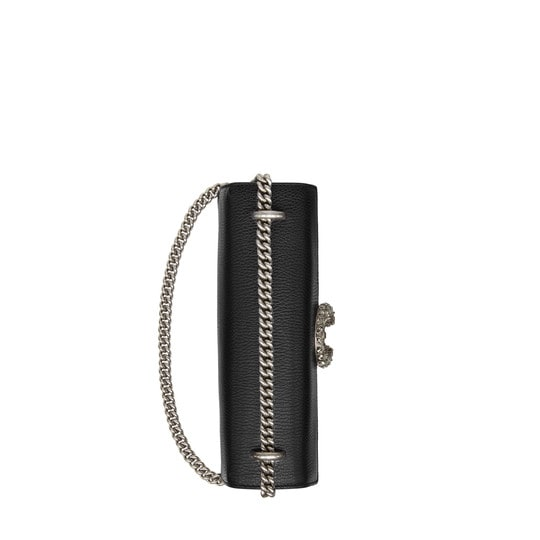Gucci: (204, 154, 355, 503), (308, 286, 351, 379)
